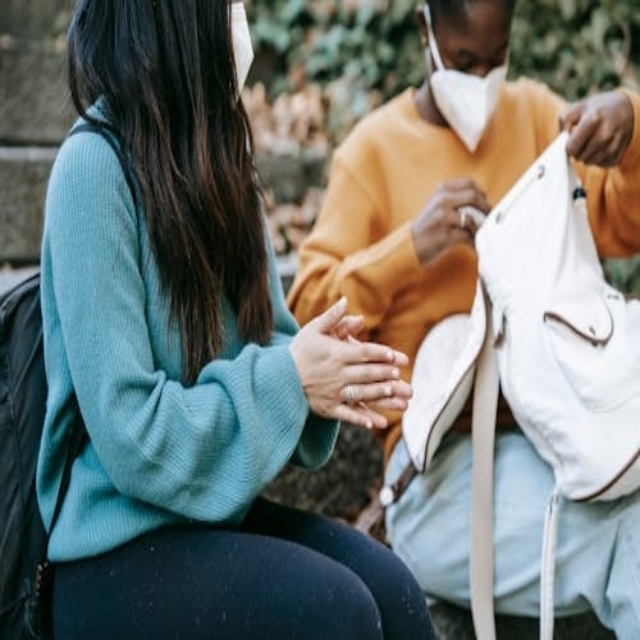Mascara: (423, 3, 509, 153), (227, 1, 255, 104)
Sin_guantes: (289, 293, 409, 429), (410, 179, 490, 269), (561, 88, 636, 168)
